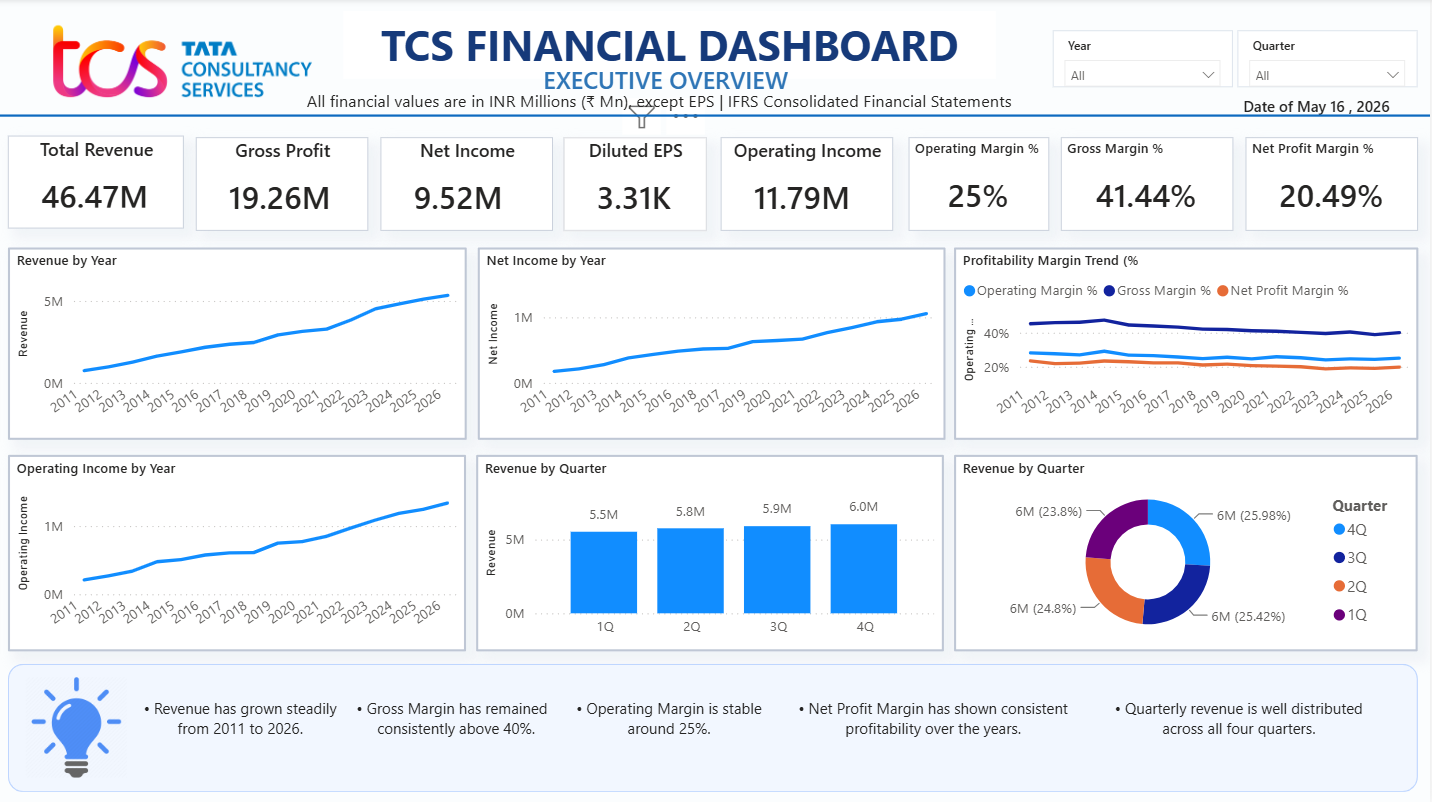

This screenshot's page, from the dashboard's own definition file:
{"tool":"powerbi","page":{"name":"Executive Overview","canvas":[1280,720],"ordinal":0},"visuals":[{"type":"slicer","fields":{"Values":["IFRS-PnL,BS-INR.Quarter"]},"box":[1108.9,29.4,160.3,50.7],"z":0},{"type":"slicer","fields":{"Values":["IFRS-PnL,BS-INR.Year "]},"box":[943.7,29.4,160.3,50.7],"z":1000},{"type":"cardVisual","title":"Total Revenue","fields":{"Data":["Sum(IFRS-PnL,BS-INR.Amount)"]},"box":[11.4,122.7,157,83],"z":2000},{"type":"cardVisual","title":"Gross Profit","fields":{"Data":["Sum(IFRS-PnL,BS-INR.Amount)"]},"box":[179.9,124.3,153.7,83.4],"z":3000},{"type":"cardVisual","title":"Net Income","fields":{"Data":["Sum(IFRS-PnL,BS-INR.Amount)"]},"box":[343.5,124.3,153.7,83.4],"z":4000},{"type":"cardVisual","title":"Diluted EPS","fields":{"Data":["Sum(IFRS-PnL,BS-INR.Amount)"]},"box":[507,124.3,127.6,83.4],"z":5000},{"type":"cardVisual","title":"Operating Income","fields":{"Data":["Sum(IFRS-PnL,BS-INR.Amount)"]},"box":[647.7,124.3,153.7,83.4],"z":6000},{"type":"cardVisual","title":"Operating Margin %","fields":{"Data":["IFRS-PnL,BS-INR.Operating Margin %"]},"box":[814.5,124.3,125,83.4],"z":7000},{"type":"cardVisual","title":"Gross Margin %","fields":{"Data":["IFRS-PnL,BS-INR.Gross Margin %"]},"box":[950.3,124.3,153.7,83.4],"z":8000},{"type":"cardVisual","title":"Net Profit Margin %","fields":{"Data":["IFRS-PnL,BS-INR.Net Profit Margin %"]},"box":[1115.4,124.3,154,83.4],"z":9000},{"type":"lineChart","fields":{"Y":["IFRS-PnL,BS-INR.Revenue"],"Category":["IFRS-PnL,BS-INR.Year "]},"box":[11.4,222.4,409,171.7],"z":10000},{"type":"lineChart","fields":{"Category":["IFRS-PnL,BS-INR.Year "],"Y":["IFRS-PnL,BS-INR.Net Income"]},"box":[430.1,222.4,417,171.7],"z":11000},{"type":"lineChart","fields":{"Category":["IFRS-PnL,BS-INR.Year "],"Y":["IFRS-PnL,BS-INR.Operating Income"]},"box":[11.9,406.8,408.5,175.3],"z":12000},{"type":"lineClusteredColumnComboChart","fields":{"Category":["IFRS-PnL,BS-INR.Quarter"],"Y":["IFRS-PnL,BS-INR.Revenue"]},"box":[429,406.8,417,175.3],"z":13000},{"type":"lineChart","title":"Profitability Margin Trend (%","fields":{"Category":["IFRS-PnL,BS-INR.Year "],"Y":["IFRS-PnL,BS-INR.Operating Margin %","IFRS-PnL,BS-INR.Gross Margin %","IFRS-PnL,BS-INR.Net Profit Margin %"]},"box":[855.4,222.4,414,171.7],"z":14000},{"type":"donutChart","fields":{"Category":["IFRS-PnL,BS-INR.Quarter"],"Y":["IFRS-PnL,BS-INR.Revenue"]},"box":[855.4,407.3,413.8,175],"z":15000},{"type":"textbox","box":[1108.9,81.8,160.3,31.1],"z":16000},{"type":"textbox","box":[310.8,11.4,582.3,60.5],"z":17000},{"type":"textbox","box":[484.1,54,233.9,39.3],"z":18000},{"type":"textbox","box":[273,77.2,655.1,39.5],"z":19000},{"type":"shape","box":[0,85,1280.6,39.3],"z":20000},{"type":"shape","box":[11.4,593.7,1257.7,114.5],"z":21000},{"type":"image","box":[27.8,0,279.7,112.9],"z":22000},{"type":"image","box":[27.8,603.5,90,93.2],"z":23000},{"type":"textbox","box":[127.6,619.9,183.2,76.9],"z":24000},{"type":"textbox","box":[256.8,619.9,300.9,67.1],"z":25000},{"type":"textbox","box":[507,619.9,188.1,63.8],"z":26000},{"type":"textbox","box":[686.9,619.9,300.9,67.1],"z":27000},{"type":"textbox","box":[974.8,619.9,268.2,63.8],"z":28000}]}

Visuals, with their boxes in screenshot pixels (x1, y1, x2, y2), scaled from the page's 1280x720 canvas onto the 1432x802 screenshot:
slicer - IFRS-PnL,BS-INR.Quarter: (left=1241, top=33, right=1420, bottom=89)
slicer - IFRS-PnL,BS-INR.Year : (left=1056, top=33, right=1235, bottom=89)
"Total Revenue" cardVisual: (left=13, top=137, right=188, bottom=229)
"Gross Profit" cardVisual: (left=201, top=138, right=373, bottom=231)
"Net Income" cardVisual: (left=384, top=138, right=556, bottom=231)
"Diluted EPS" cardVisual: (left=567, top=138, right=710, bottom=231)
"Operating Income" cardVisual: (left=725, top=138, right=897, bottom=231)
"Operating Margin %" cardVisual: (left=911, top=138, right=1051, bottom=231)
"Gross Margin %" cardVisual: (left=1063, top=138, right=1235, bottom=231)
"Net Profit Margin %" cardVisual: (left=1248, top=138, right=1420, bottom=231)
lineChart - IFRS-PnL,BS-INR.Revenue x IFRS-PnL,BS-INR.Year : (left=13, top=248, right=470, bottom=439)
lineChart - IFRS-PnL,BS-INR.Year  x IFRS-PnL,BS-INR.Net Income: (left=481, top=248, right=948, bottom=439)
lineChart - IFRS-PnL,BS-INR.Year  x IFRS-PnL,BS-INR.Operating Income: (left=13, top=453, right=470, bottom=648)
lineClusteredColumnComboChart - IFRS-PnL,BS-INR.Quarter x IFRS-PnL,BS-INR.Revenue: (left=480, top=453, right=946, bottom=648)
"Profitability Margin Trend (%" lineChart: (left=957, top=248, right=1420, bottom=439)
donutChart - IFRS-PnL,BS-INR.Quarter x IFRS-PnL,BS-INR.Revenue: (left=957, top=454, right=1420, bottom=649)
textbox: (left=1241, top=91, right=1420, bottom=126)
textbox: (left=348, top=13, right=999, bottom=80)
textbox: (left=542, top=60, right=803, bottom=104)
textbox: (left=305, top=86, right=1038, bottom=130)
shape: (left=0, top=95, right=1431, bottom=138)
shape: (left=13, top=661, right=1420, bottom=789)
image: (left=31, top=0, right=344, bottom=126)
image: (left=31, top=672, right=132, bottom=776)
textbox: (left=143, top=690, right=348, bottom=776)
textbox: (left=287, top=690, right=624, bottom=765)
textbox: (left=567, top=690, right=778, bottom=762)
textbox: (left=768, top=690, right=1105, bottom=765)
textbox: (left=1091, top=690, right=1391, bottom=762)
